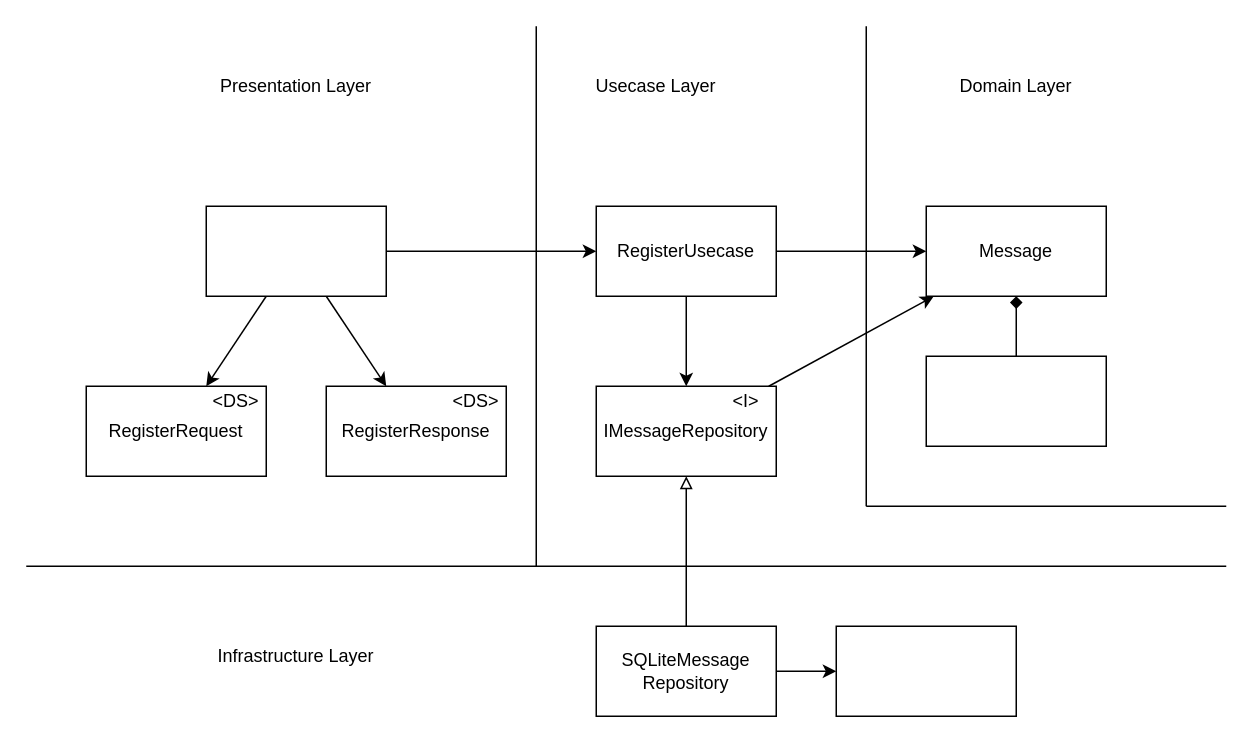
Image size: 1254x743. Some labels were removed from this diagram. Each missing label, with the centre of its shape:
"ID" belongs at point (1015, 400).
"RegisterController" belongs at point (295, 250).
"sqlite3" belongs at point (925, 670).
